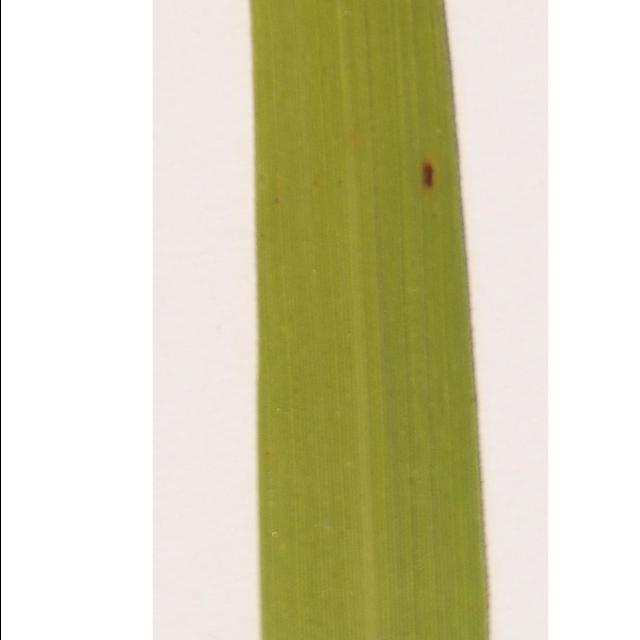Brown spot: (410, 150, 447, 200)
